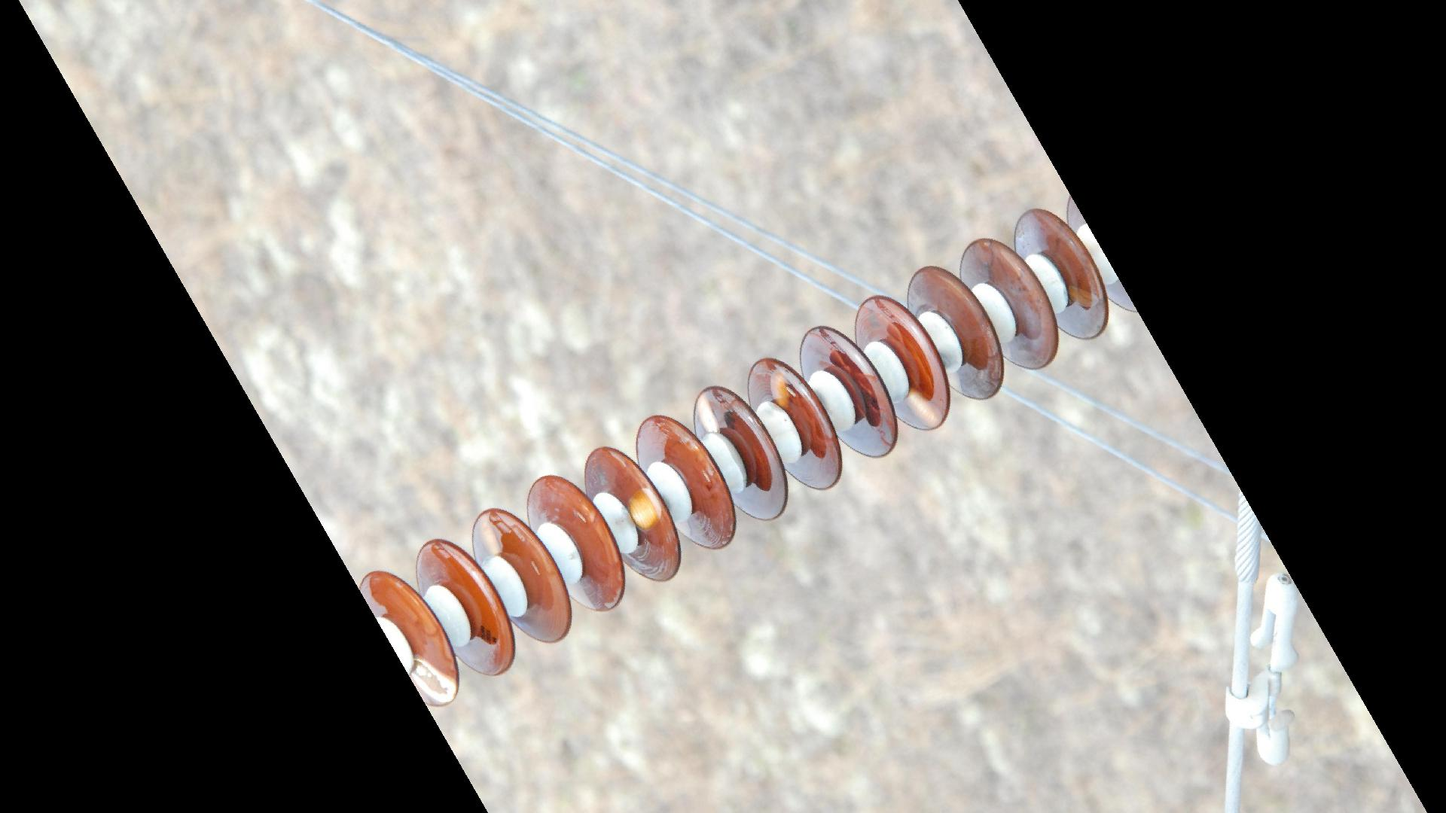insulator: (358, 190, 1138, 714)
insulator_flashover: (408, 656, 459, 708), (625, 484, 665, 532), (905, 387, 948, 431), (477, 512, 507, 559), (767, 364, 794, 413), (695, 390, 723, 436)
